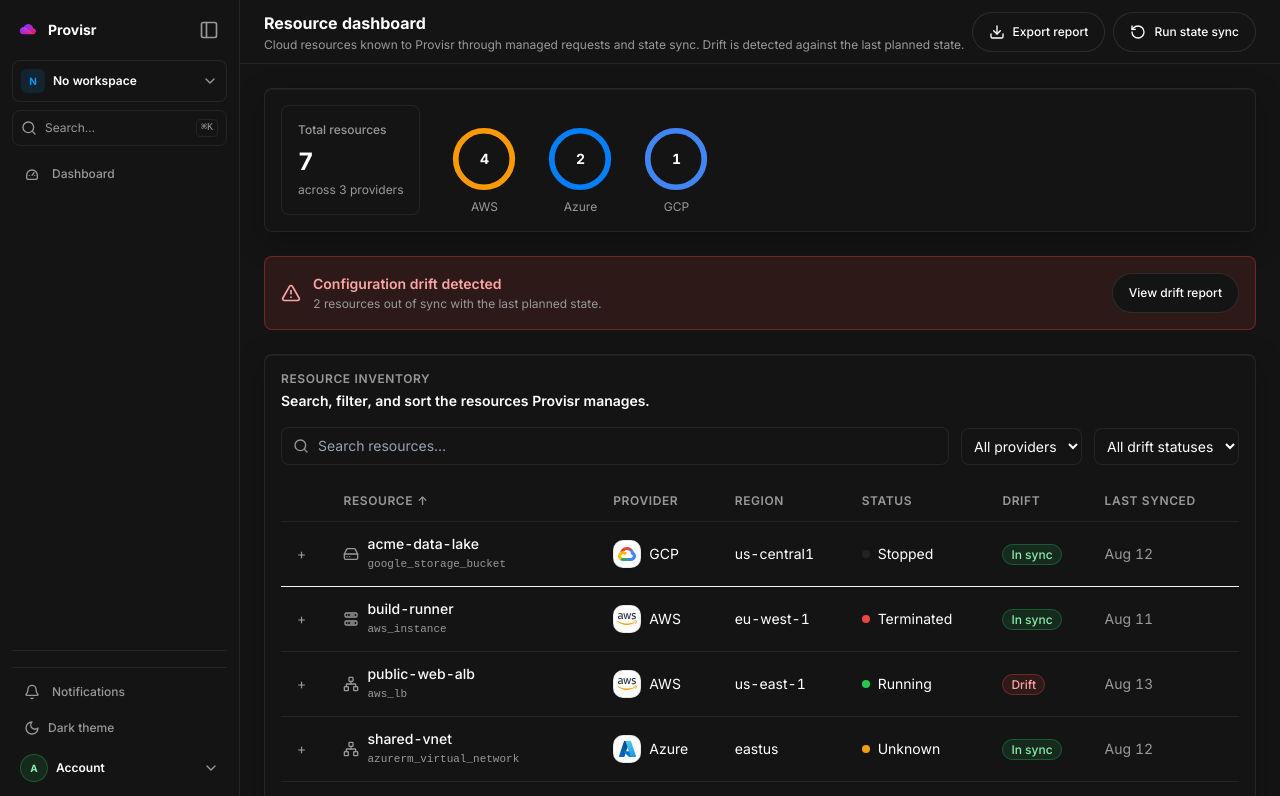
Scenario: ResourcesPage › handles run state sync failure and displays error feedback without reporting success
Expected: the text "Resource inventory" is shown, 281,371 -> 430,386
Step 1. Click the button "Run state sync" → (1185, 32), box 1113,12 -> 1256,52
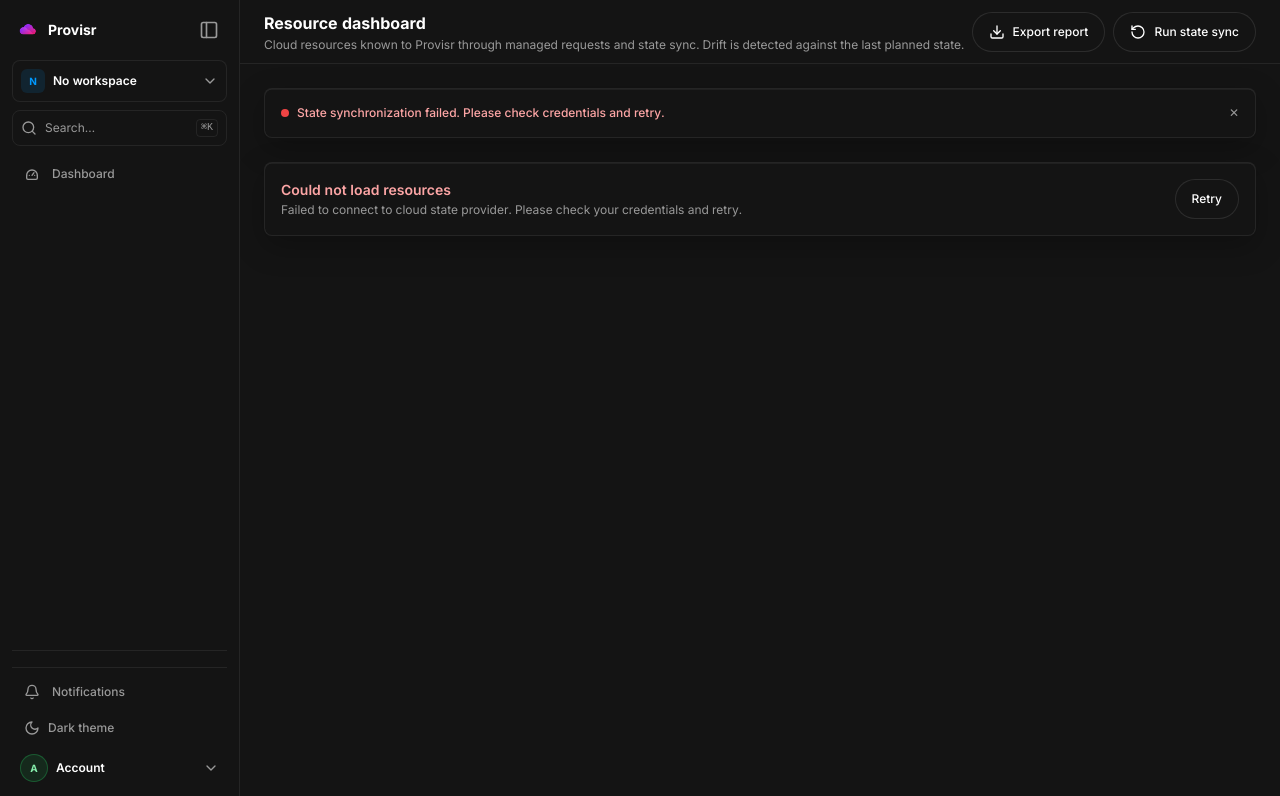
Expected: the text "State synchronization failed. Please check credentials and retry." is shown, 297,105 -> 664,121
